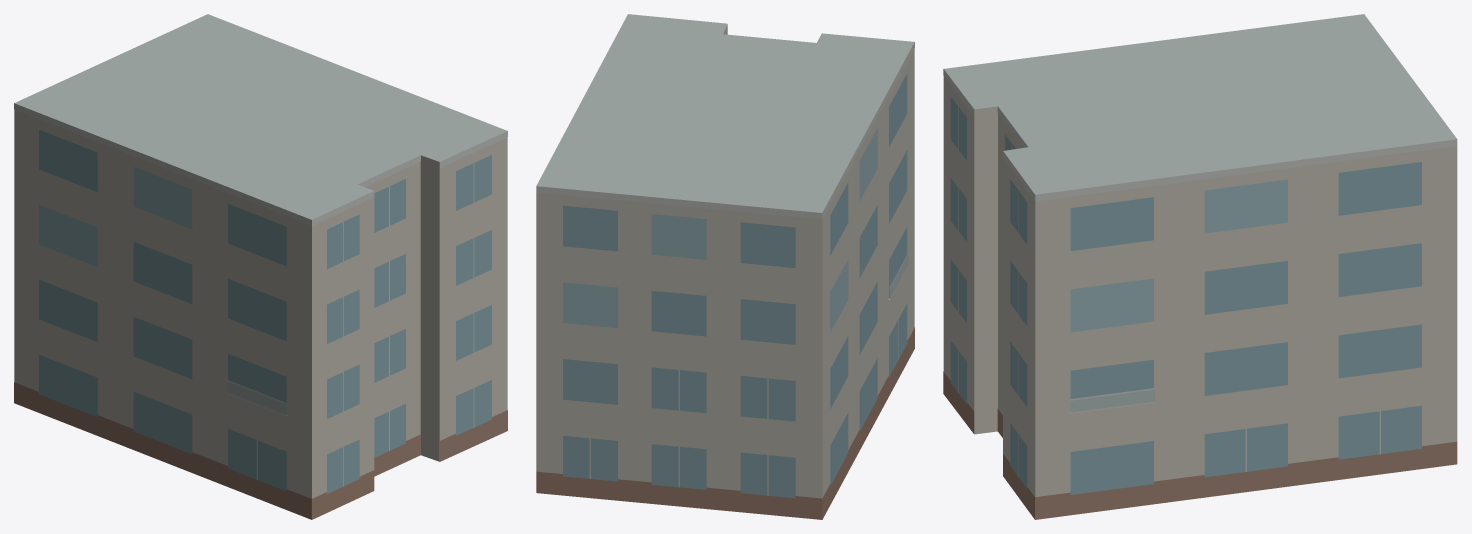
File: survey-upis-32610080.glb
The picture shows the model from 3 angles, left to right: view 1: azimuth 30°, elevation 25°; view 2: azimuth 150°, elevation 25°; view 3: azimuth 270°, elevation 25°; orthographic projection. The views are drawn at different scales.
Visible parts, largest first — view 1: survey-upis-32610080.tmp; view 2: survey-upis-32610080.tmp; view 3: survey-upis-32610080.tmp.
Boxes of the visible parts, bbox=[...] form: survey-upis-32610080.tmp: bbox=[14, 14, 507, 519]; survey-upis-32610080.tmp: bbox=[536, 14, 914, 519]; survey-upis-32610080.tmp: bbox=[943, 14, 1457, 519].
Bounding box in the file's own units: 14.14 × 11.85 × 16.98.
